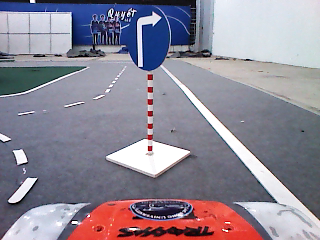turn: (124, 5, 172, 72)
